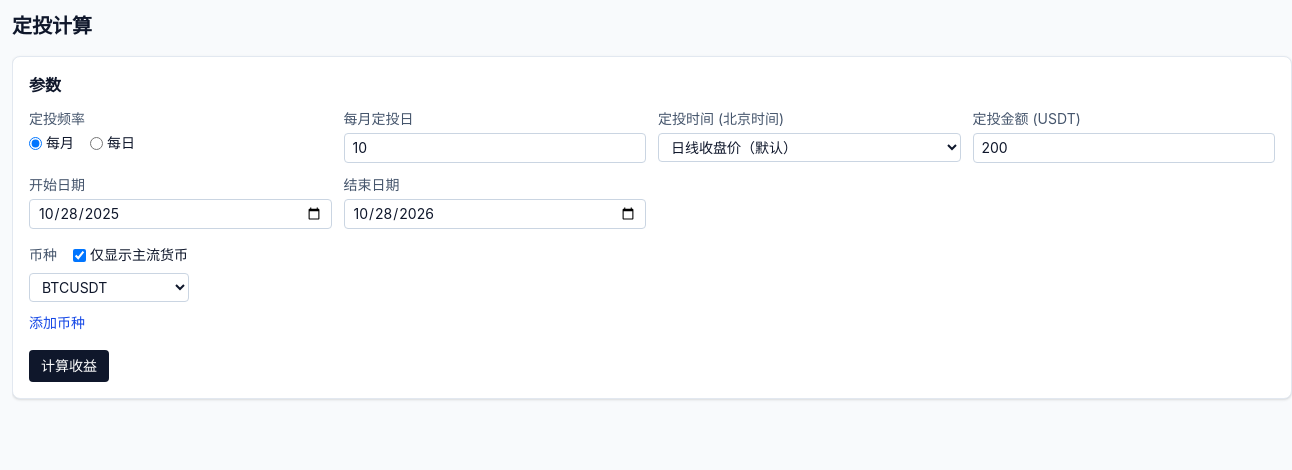
Scenario: DcaPage › shows error detail when the API fails
Click the button "计算收益".
click(69, 366)  # box top-left (29, 350), bottom-right (109, 382)
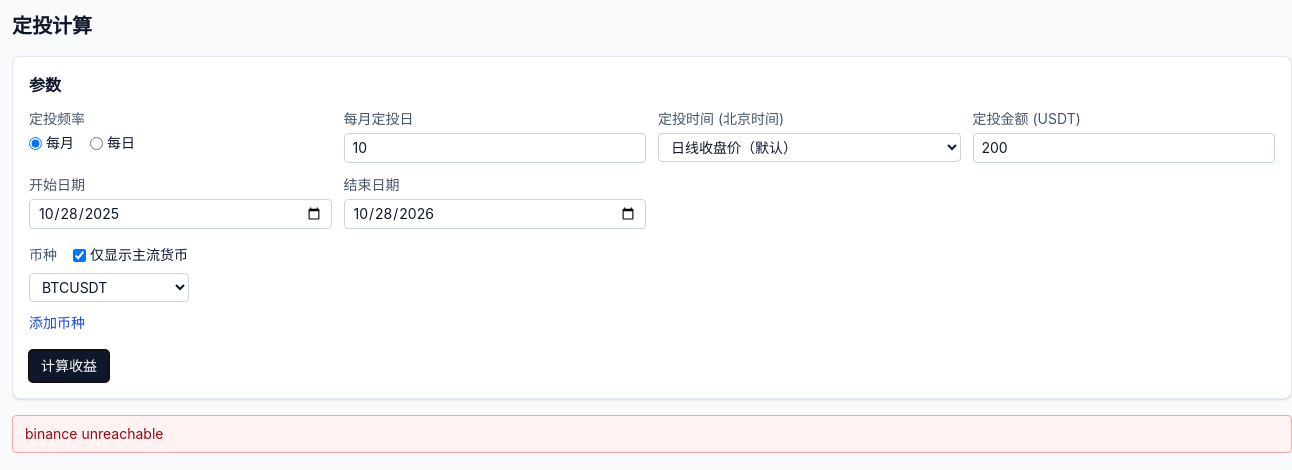
Now the message reads "binance unreachable", box top-left (25, 425), bottom-right (164, 442)
